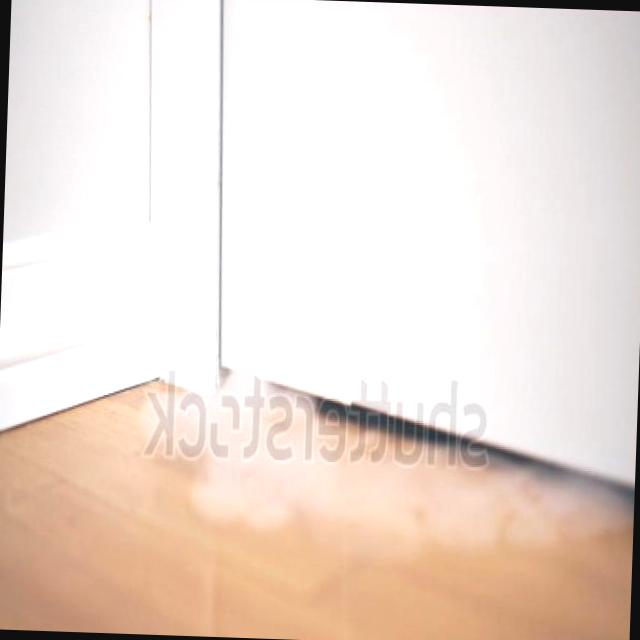smoke: (145, 382, 634, 556)
